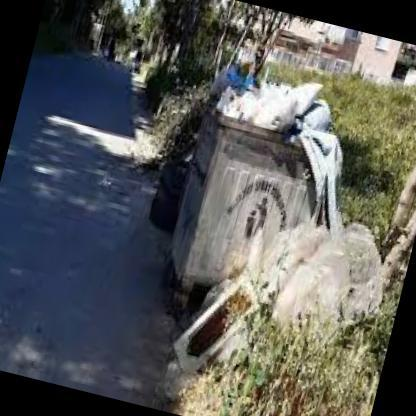Garbage: (203, 51, 325, 137), (282, 105, 358, 230)
